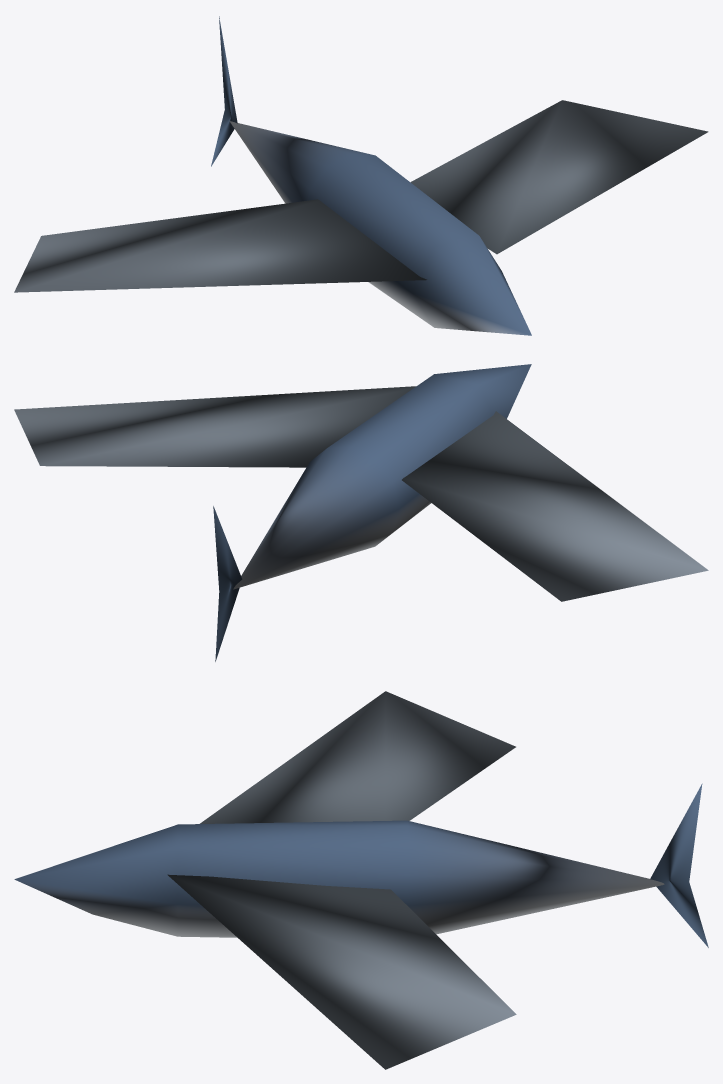
Rendered from fliegender_fisch.glb.
3 views of the same model, one above another, from view 1: azimuth 30°, elevation 25°; view 2: azimuth 150°, elevation 25°; view 3: azimuth 270°, elevation 25° (orthographic). The views are drawn at different scales.
Parts seen in each view (by area): view 1: lack; view 2: lack; view 3: lack.
Boxes of the visible parts, left/top/right/bottom form: lack: left=14, top=16, right=708, bottom=335; lack: left=14, top=364, right=708, bottom=661; lack: left=14, top=691, right=708, bottom=1069.
Size of the model in its own units: 0.4 by 0.085 by 0.318.
